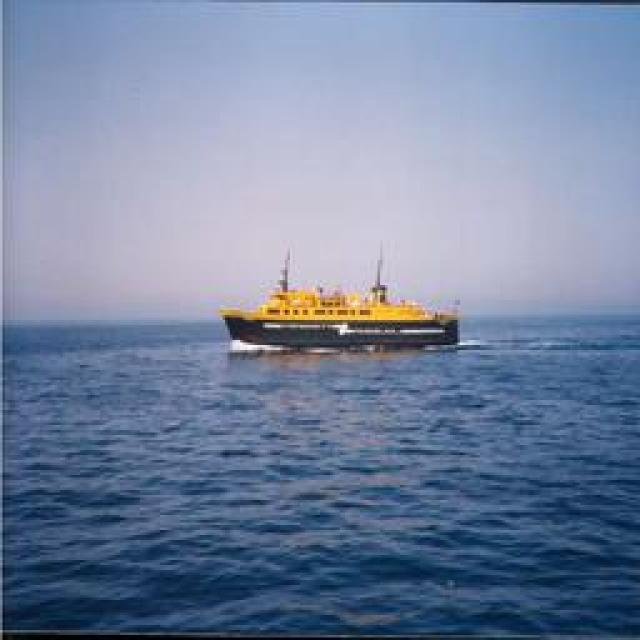CIV_Ship: (218, 261, 462, 354)
